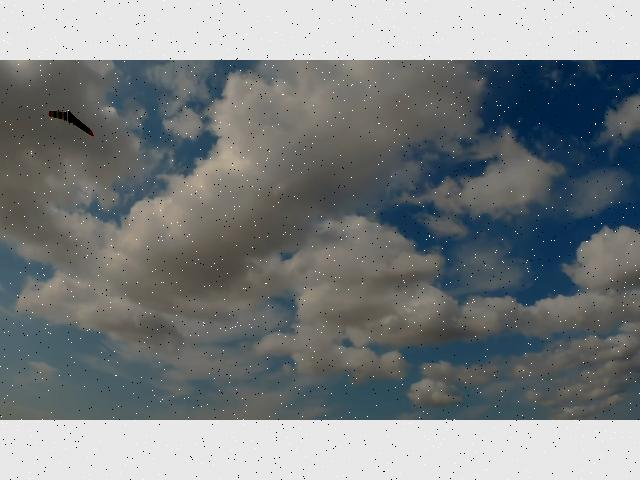Anti-Drone: (48, 110, 94, 136)
